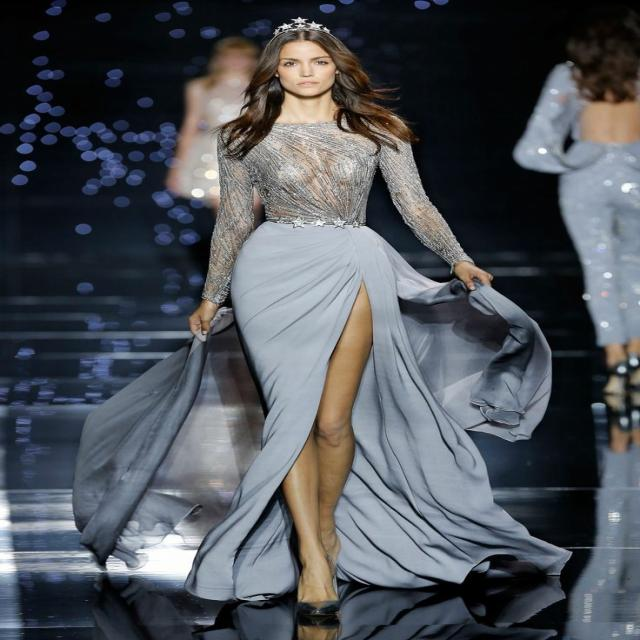female-dress: (197, 102, 481, 602)
